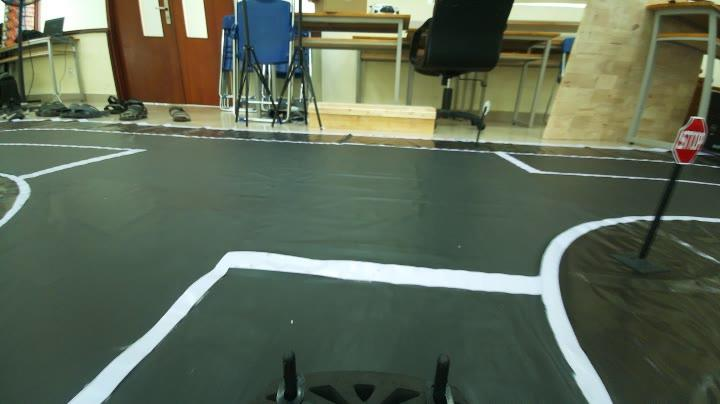stop: (663, 114, 704, 164)
